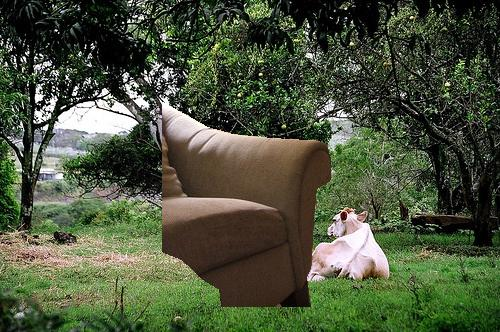tampered: (163, 103, 331, 307)
